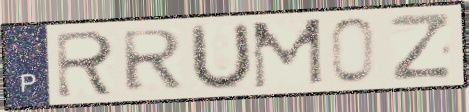0: (326, 14, 382, 87)
M: (249, 16, 326, 92)
R: (54, 28, 119, 101), (119, 27, 187, 95)
U: (188, 20, 256, 94)
Z: (387, 11, 454, 84)
